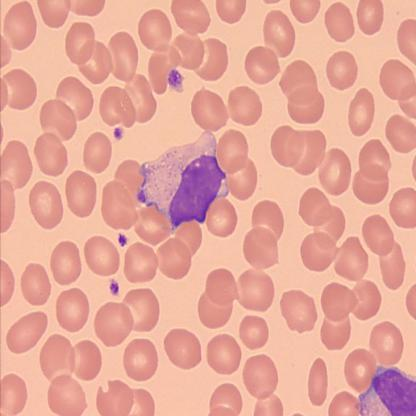Atypical lymphocyte: (136, 129, 228, 233)
